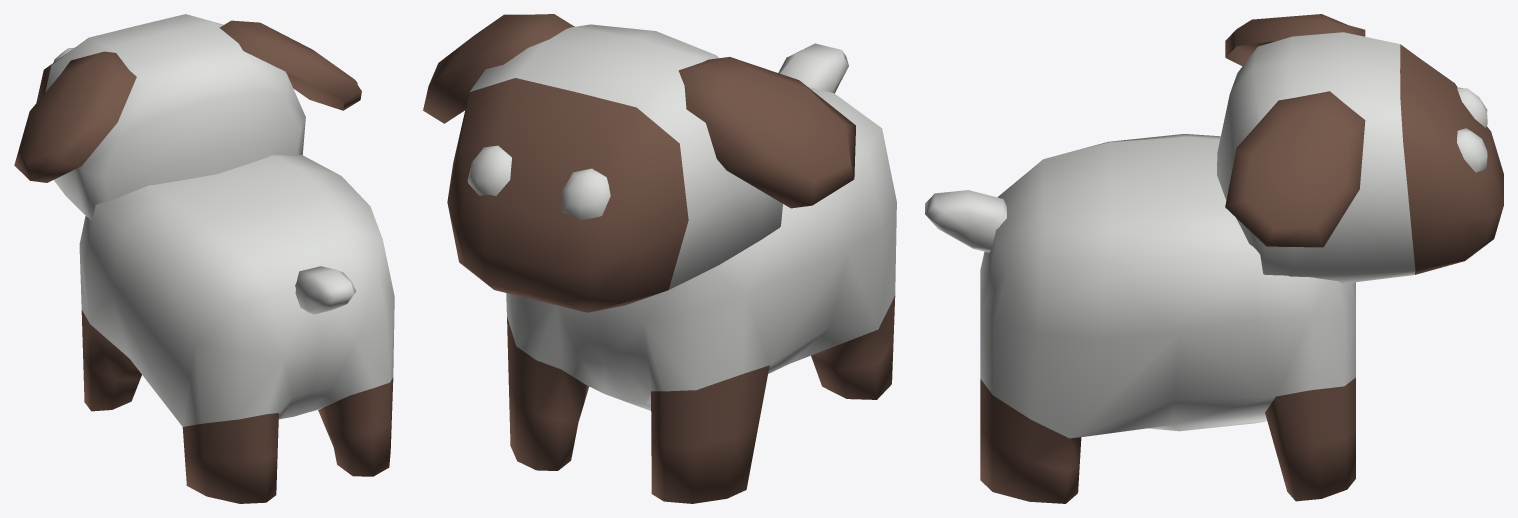
File: sheep.fbx
3 renders of one model, left to right at view 1: azimuth 30°, elevation 25°; view 2: azimuth 150°, elevation 25°; view 3: azimuth 270°, elevation 25°, orthographic. The views are drawn at different scales.
Parts seen in each view (by area): view 1: Cube.007; view 2: Cube.007; view 3: Cube.007.
Part boxes in pixels (x1,y1,x2,y2): Cube.007: (14,14,394,503); Cube.007: (423,14,896,503); Cube.007: (925,14,1503,503).
Size of the model in its own units: 547 by 541 by 722.
